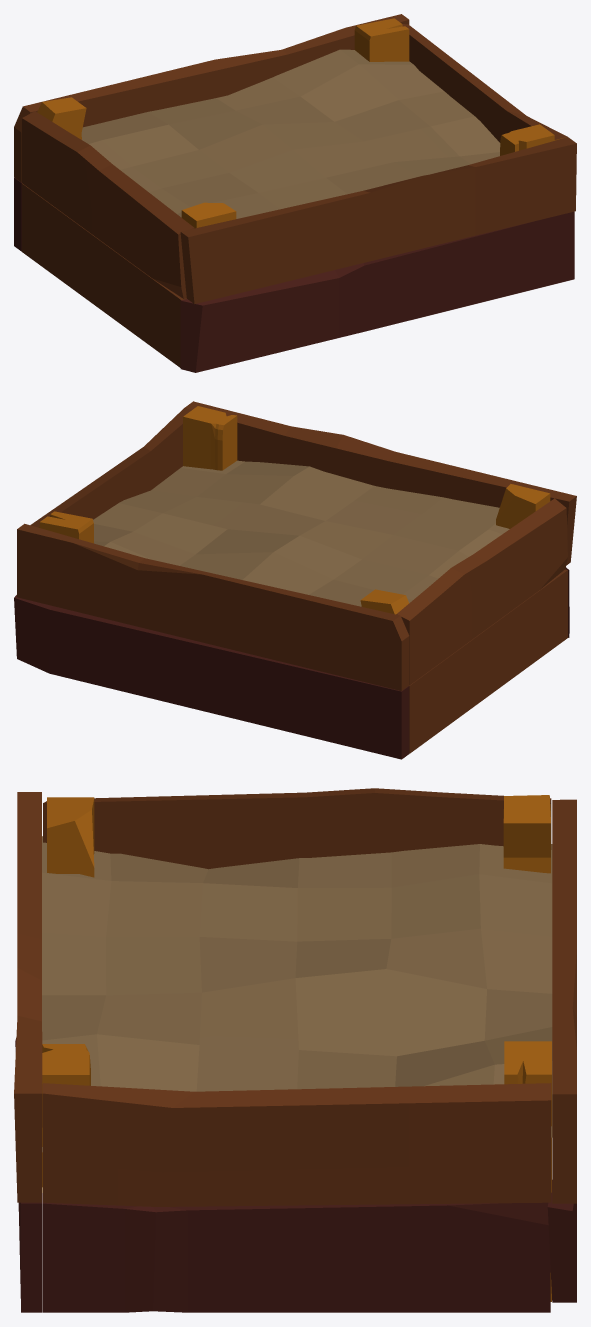
Rendered from grow_box.fbx.
3 renders of one model, top to bottom at view 1: azimuth 30°, elevation 25°; view 2: azimuth 150°, elevation 25°; view 3: azimuth 270°, elevation 25°, orthographic. The views are drawn at different scales.
Parts seen in each view (by area): view 1: F_grow_box; view 2: F_grow_box; view 3: F_grow_box.
Boxes of the visible parts, x1=… form: F_grow_box: x1=14, y1=14, x2=576, y2=372; F_grow_box: x1=14, y1=401, x2=576, y2=759; F_grow_box: x1=14, y1=788, x2=576, y2=1312.
Size of the model in its own units: 260 by 92.14 by 202.
